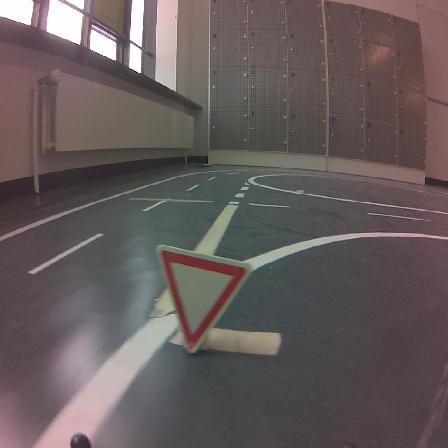GIVE_WAY: (157, 246, 251, 352)
